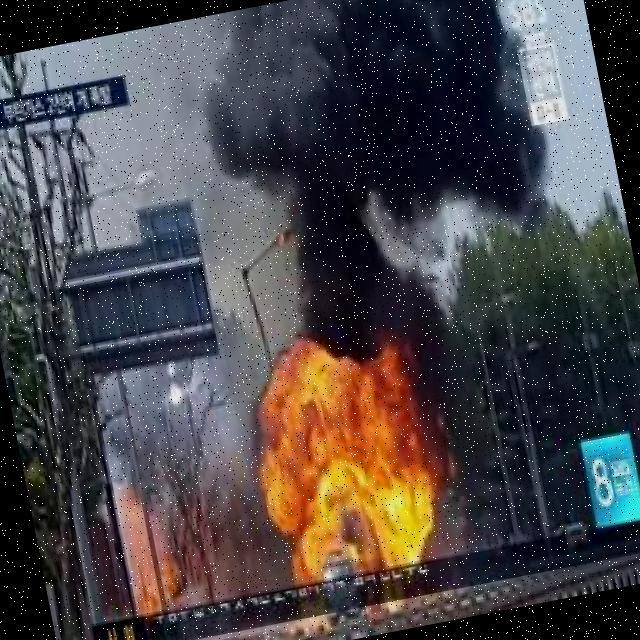Fire: (249, 337, 448, 594)
